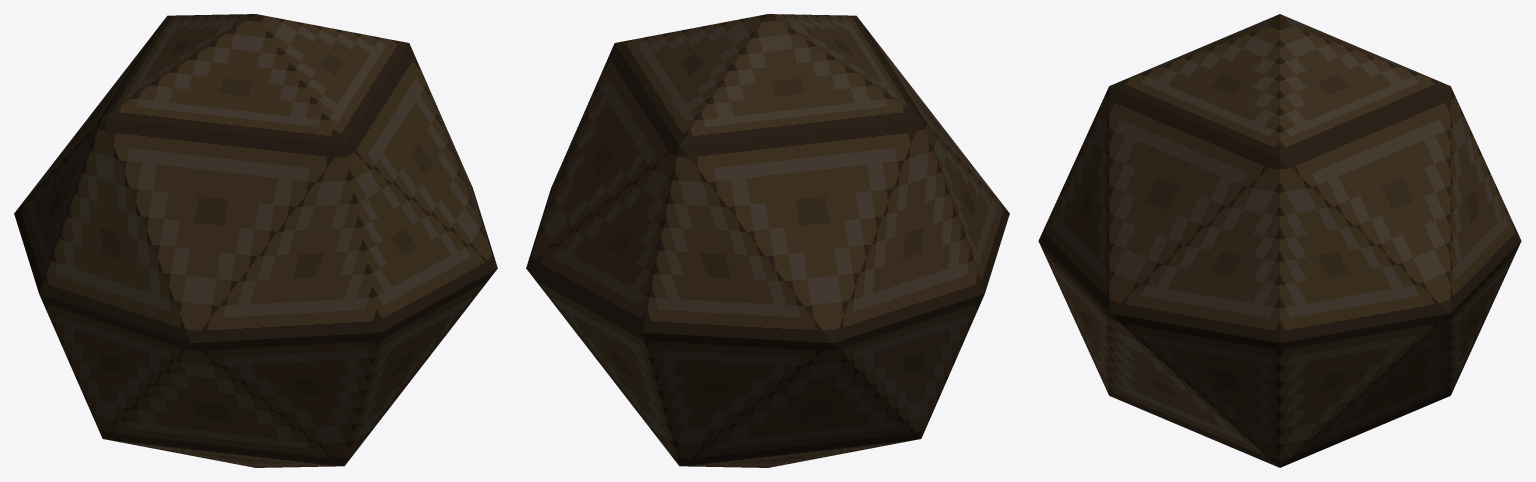
Rendered from qlamp_off.obj.
3 renders of one model, left to right at view 1: azimuth 30°, elevation 25°; view 2: azimuth 150°, elevation 25°; view 3: azimuth 270°, elevation 25°, orthographic. The views are drawn at different scales.
Visible parts, largest first — view 1: qlamp; view 2: qlamp; view 3: qlamp.
Boxes of the visible parts, <box> form: qlamp: <box>14,14,497,467</box>; qlamp: <box>526,14,1009,467</box>; qlamp: <box>1038,14,1521,467</box>.
Bounding box in the file's own units: 1 × 1 × 1.
